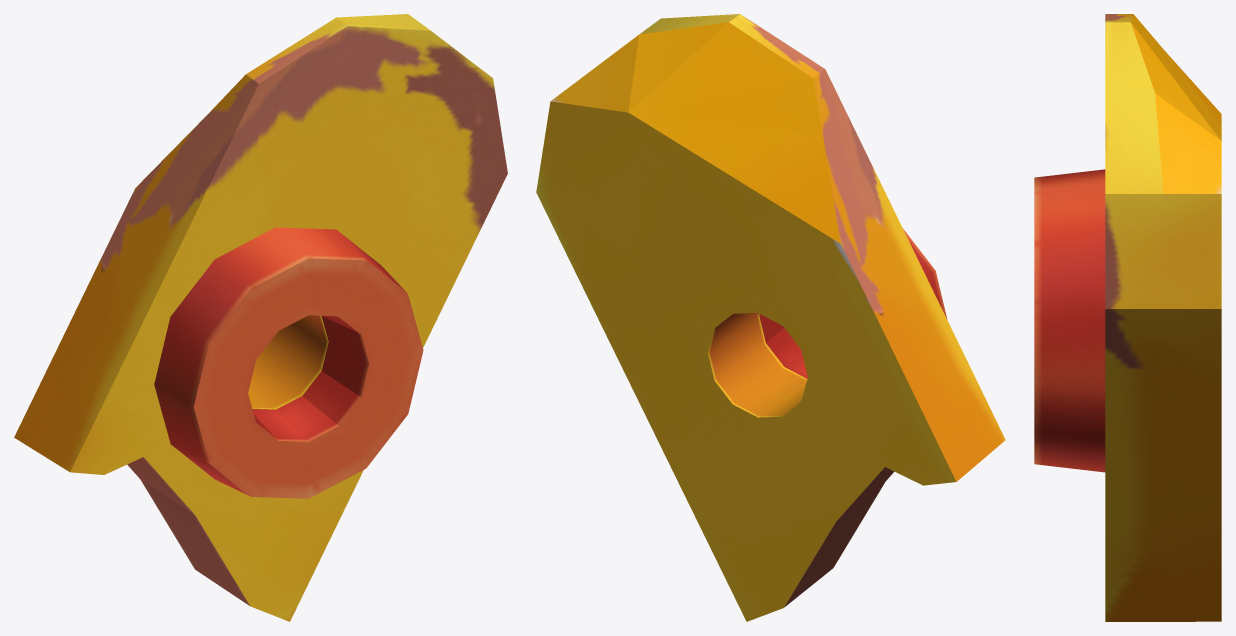
Rendered from huailingjian02.FBX.
3 renders of one model, left to right at view 1: azimuth 30°, elevation 25°; view 2: azimuth 150°, elevation 25°; view 3: azimuth 270°, elevation 25°, orthographic. The views are drawn at different scales.
Parts seen in each view (by area): view 1: huailingjian02; view 2: huailingjian02; view 3: huailingjian02.
Boxes of the visible parts, x1=… form: huailingjian02: x1=14, y1=14, x2=507, y2=621; huailingjian02: x1=536, y1=14, x2=1005, y2=621; huailingjian02: x1=1034, y1=14, x2=1221, y2=621.
Bounding box in the file's own units: 18.14 × 22.94 × 6.18.
